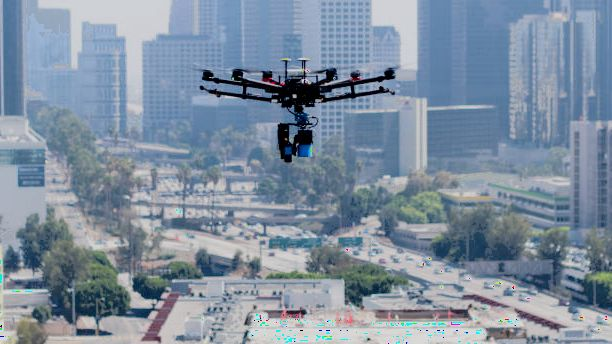Drone: (195, 53, 399, 164)
